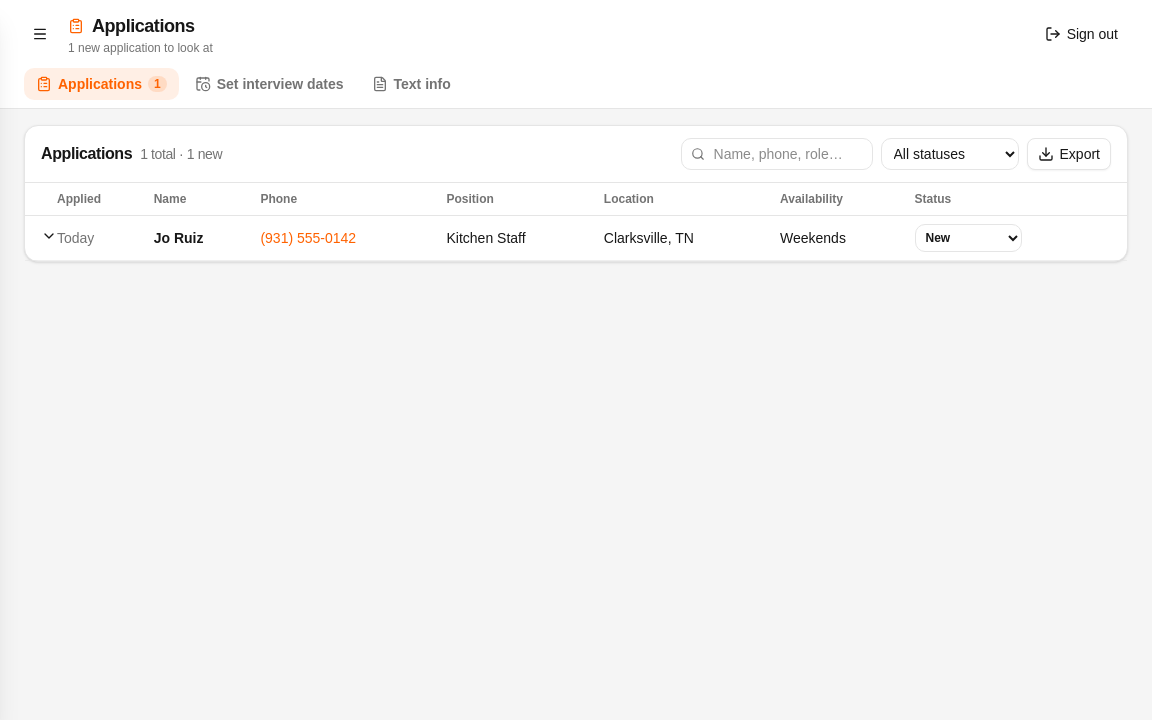
Test: the applications sheet › keeps what they wrote out of the way until the row is opened
The image size is (1152, 720).
Expected: the text "Two years on a line" is not shown
Click the button named "Show Jo Ruiz's answers" at [49, 236], box [41, 228, 57, 244]
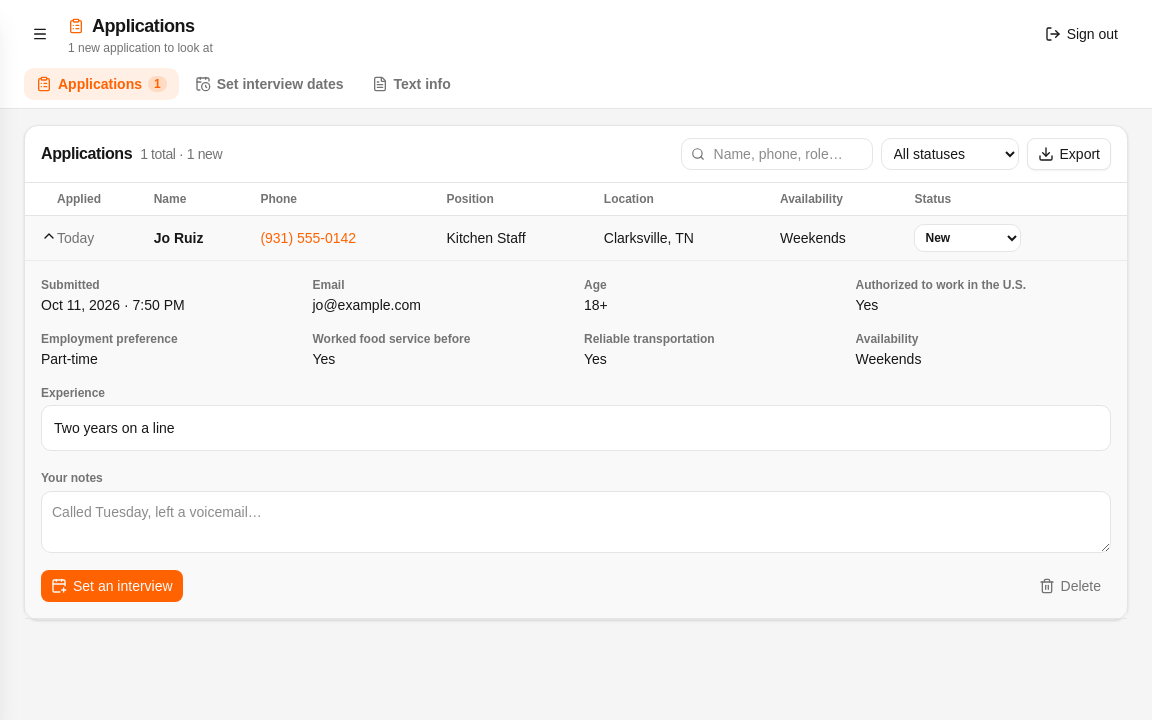
Expected: the text "Two years on a line" is shown, [41, 405, 1111, 451]
Expected: the text "jo@example.com" is shown, [312, 297, 421, 313]
